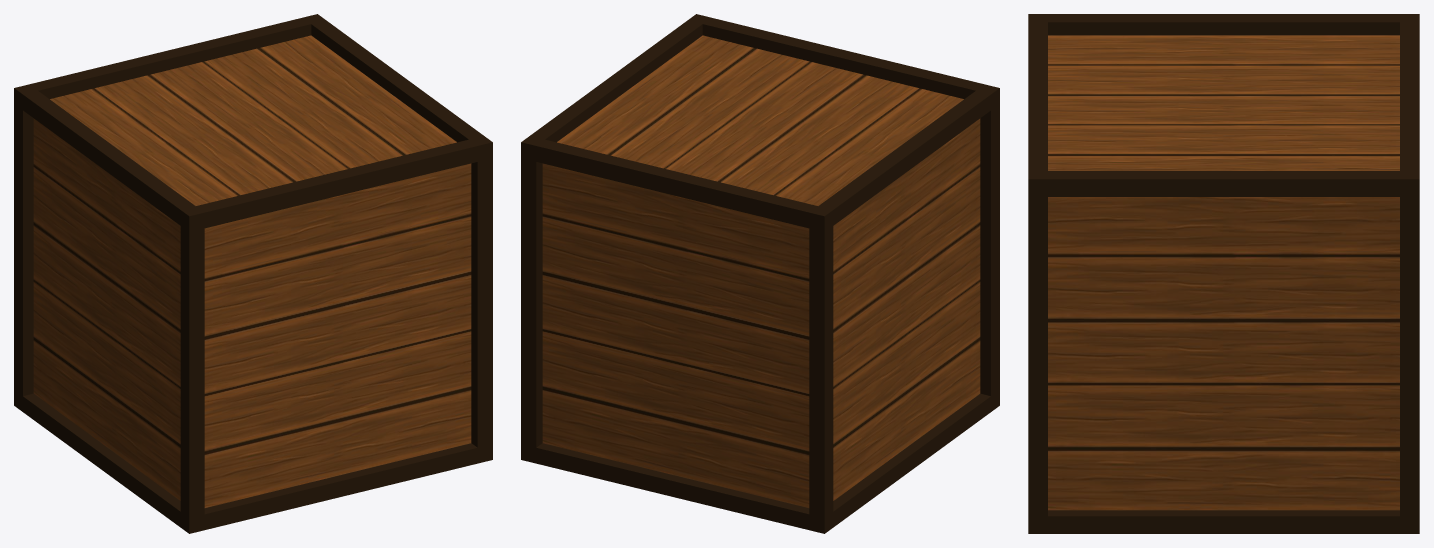
3 renders of one model, left to right at view 1: azimuth 30°, elevation 25°; view 2: azimuth 150°, elevation 25°; view 3: azimuth 270°, elevation 25°, orthographic. The views are drawn at different scales.
Visible parts, largest first — view 1: Cubo; view 2: Cubo; view 3: Cubo.
Boxes of the visible parts, box(x1,y1,x2,y2) form: Cubo: box(14, 14, 492, 533); Cubo: box(521, 14, 999, 533); Cubo: box(1028, 14, 1419, 533).
Size of the model in its own units: 200 by 200 by 200.
Materials: 1 (1 with a texture image).
